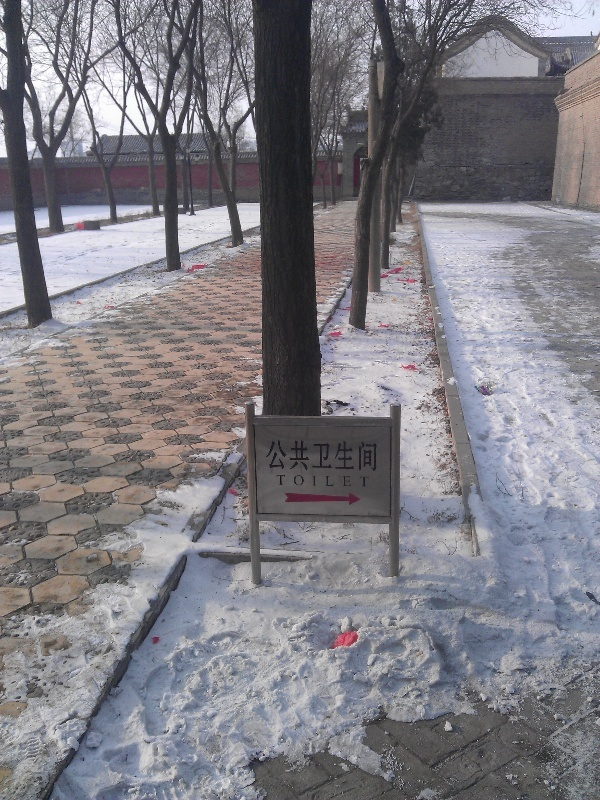text: (273, 440, 288, 472), (289, 440, 304, 472), (305, 440, 320, 472), (321, 440, 336, 472), (337, 440, 352, 472), (353, 440, 368, 472), (369, 440, 378, 472), (289, 474, 304, 488), (305, 474, 320, 488), (321, 474, 336, 488), (337, 474, 352, 488), (353, 474, 368, 488), (276, 474, 288, 488), (267, 440, 272, 472), (369, 474, 370, 488)
